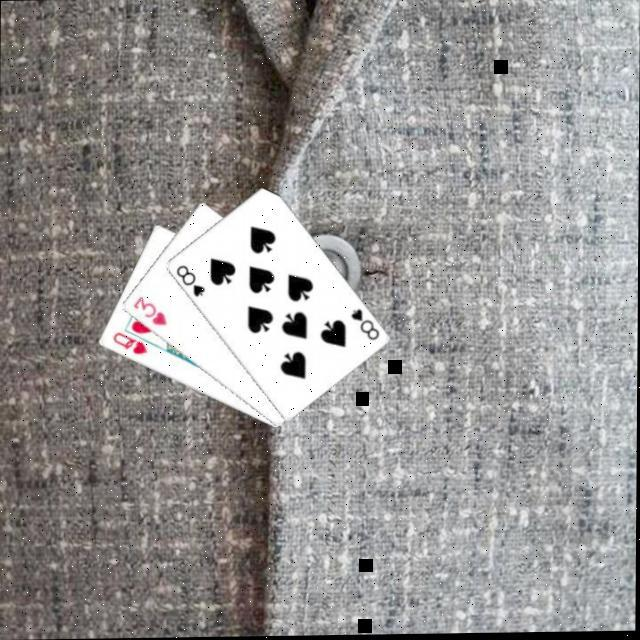3H: (128, 292, 168, 328)
8S: (171, 261, 206, 299), (346, 304, 380, 342)
QH: (108, 328, 148, 356)
